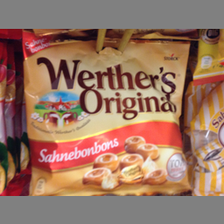candy: (24, 30, 194, 194)
